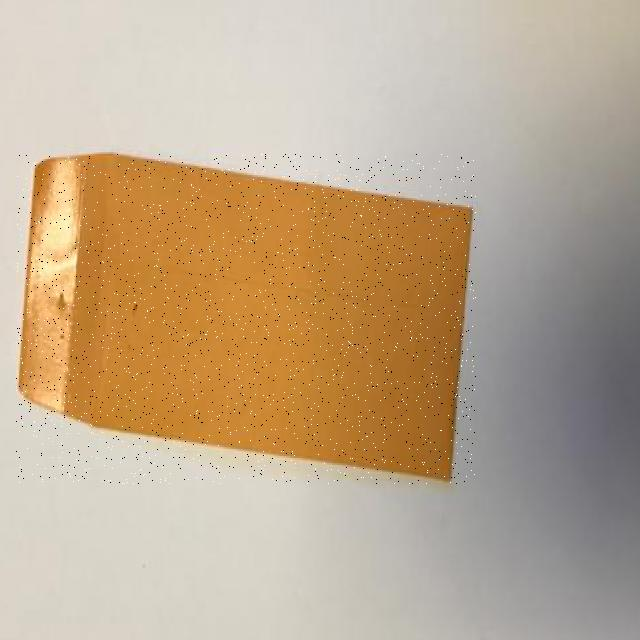paper: (17, 154, 476, 484)
